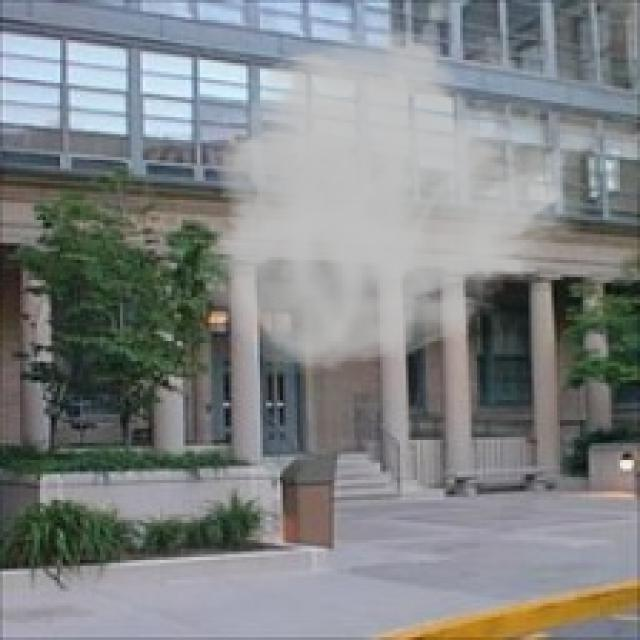smoke: (194, 26, 592, 377)
